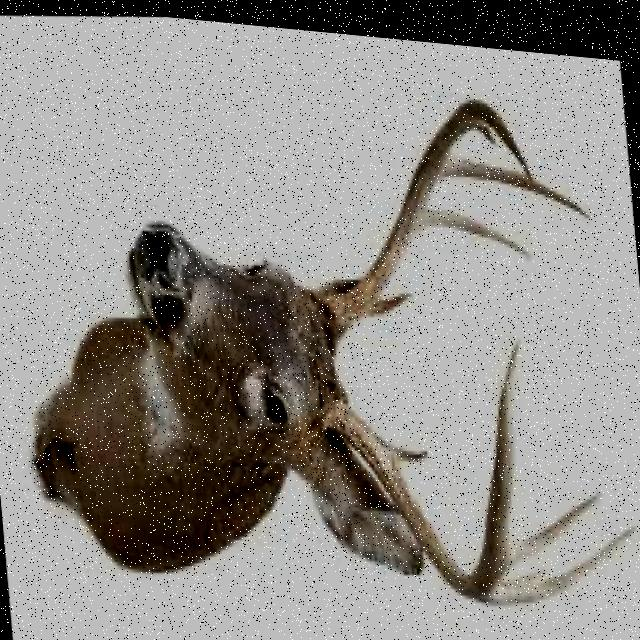L-F: (304, 89, 533, 328)
L-G1: (363, 284, 415, 310)
L-G2: (422, 201, 534, 251)
L-G3: (442, 145, 592, 210)
R-F: (318, 328, 522, 591)
R-G1: (387, 434, 429, 456)
R-G3: (486, 512, 640, 598)
R-G4: (508, 477, 605, 560)
